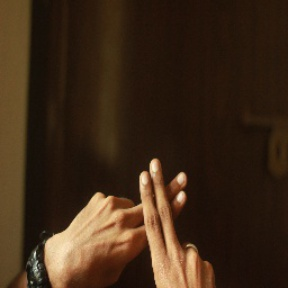F: (106, 144, 217, 277)
